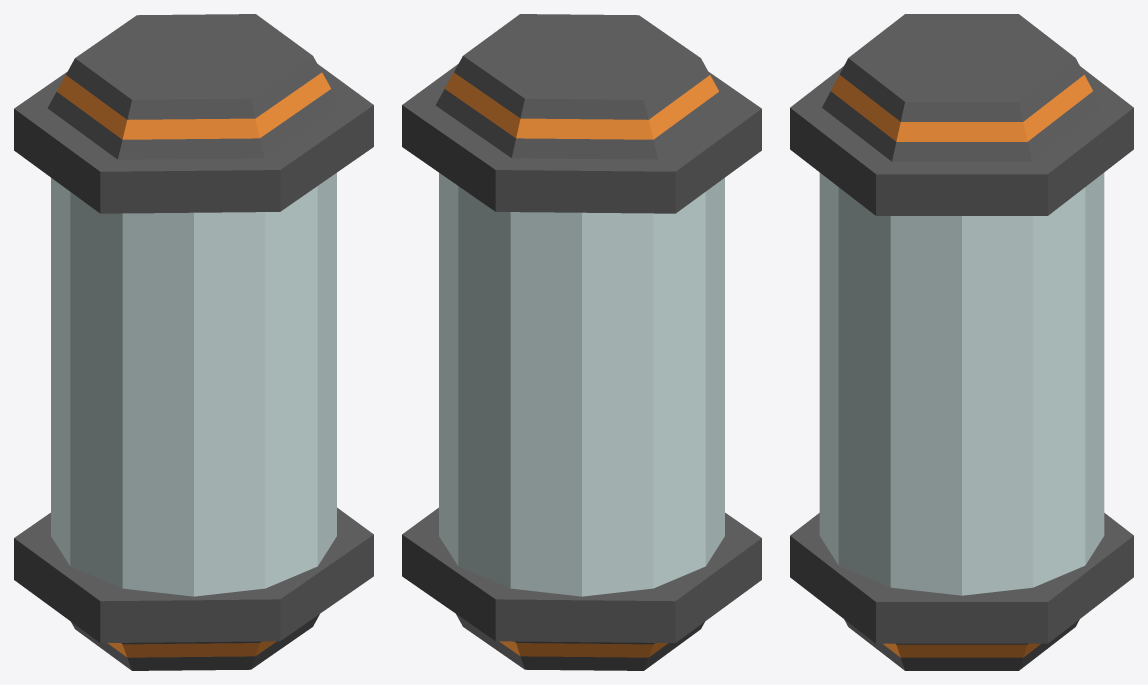
Rendered from model-collectable-health-tank-low.fbx.
The picture shows the model from 3 angles, left to right: view 1: azimuth 30°, elevation 25°; view 2: azimuth 150°, elevation 25°; view 3: azimuth 270°, elevation 25°; orthographic projection.
Parts seen in each view (by area): view 1: mesh; view 2: mesh; view 3: mesh.
Boxes of the visible parts, left/top/right/bottom form: mesh: left=14, top=14, right=373, bottom=670; mesh: left=402, top=14, right=761, bottom=670; mesh: left=790, top=14, right=1133, bottom=670.
Size of the model in its own units: 0.3001 by 0.3279 by 0.5986.
